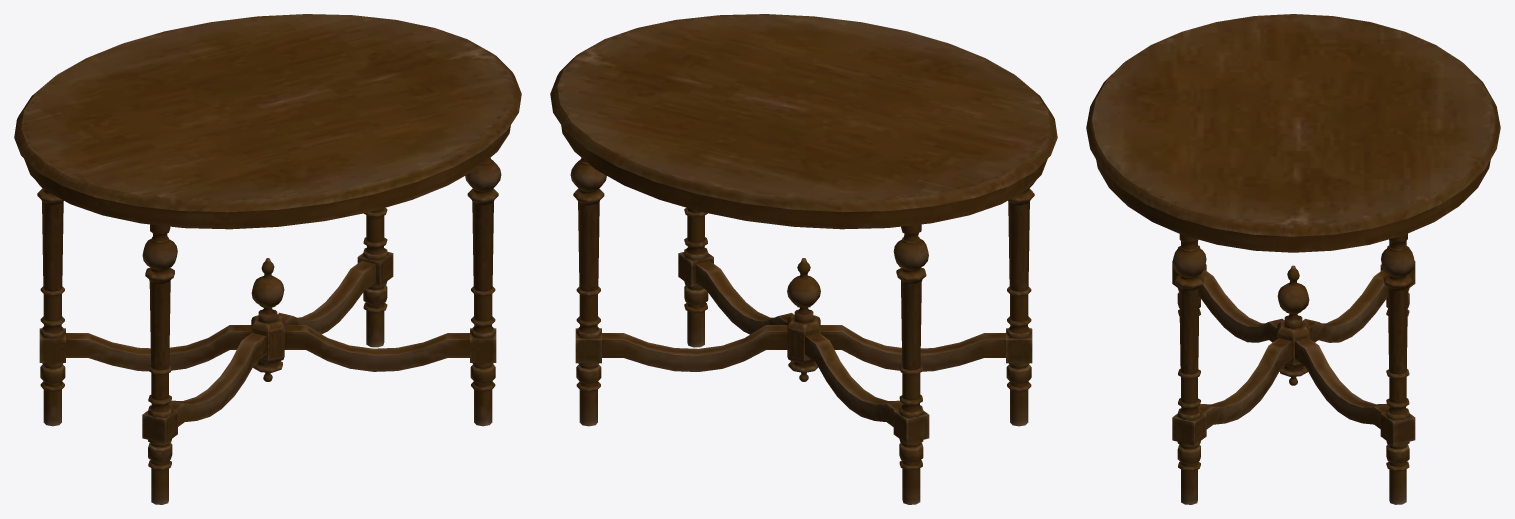
The model's file is SM_dining_table_e9a3bf.glb.
3 views of the same model, side by side, from view 1: azimuth 30°, elevation 25°; view 2: azimuth 150°, elevation 25°; view 3: azimuth 270°, elevation 25° (orthographic). The views are drawn at different scales.
Bounding box in the file's own units: 1.16 × 0.7546 × 0.9292.
Materials: 1 (1 with a texture image).
